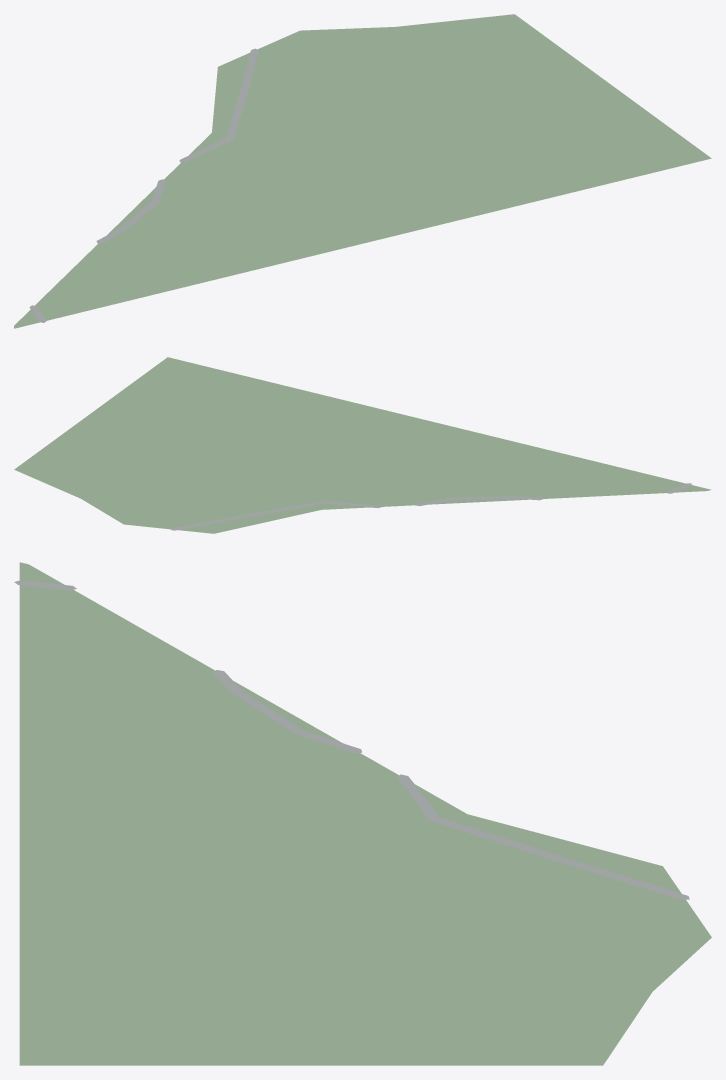
The model's file is -3_5-known-coarse.glb.
3 renders of one model, top to bottom at view 1: azimuth 30°, elevation 25°; view 2: azimuth 150°, elevation 25°; view 3: azimuth 270°, elevation 25°, orthographic. The views are drawn at different scales.
Size of the model in its own units: 302 by 0.1 by 177.
